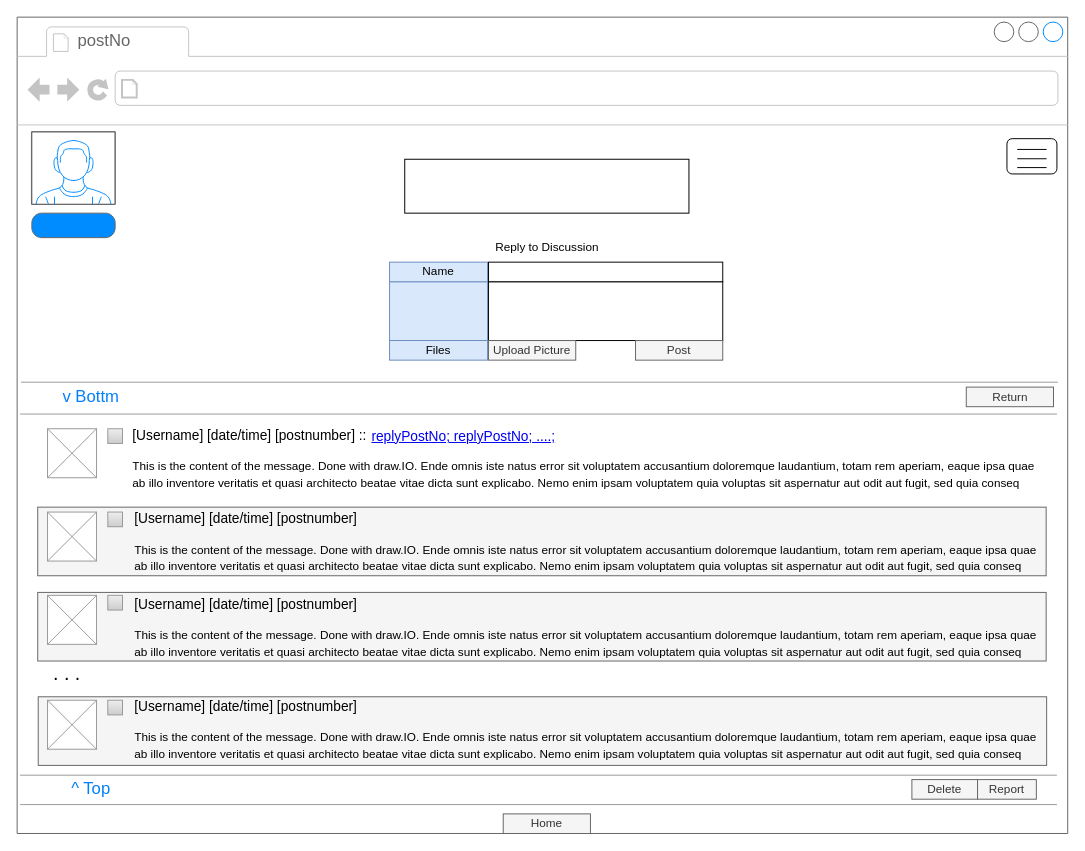
Some shapes in this 1085 by 851 pixel diagram are drawn without their labels. The centre of each missing label's shape, as x and y in pixels:
"https://www.TwaddleCate.com/TopicTitle/message/postNoOfCreator" belongs at [267,88].
"Login" belongs at [73,225].
"Message" belongs at [438,311].
"Topic Title" belongs at [546,185].
